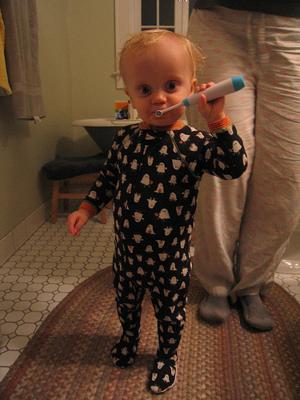person: (66, 26, 248, 396)
